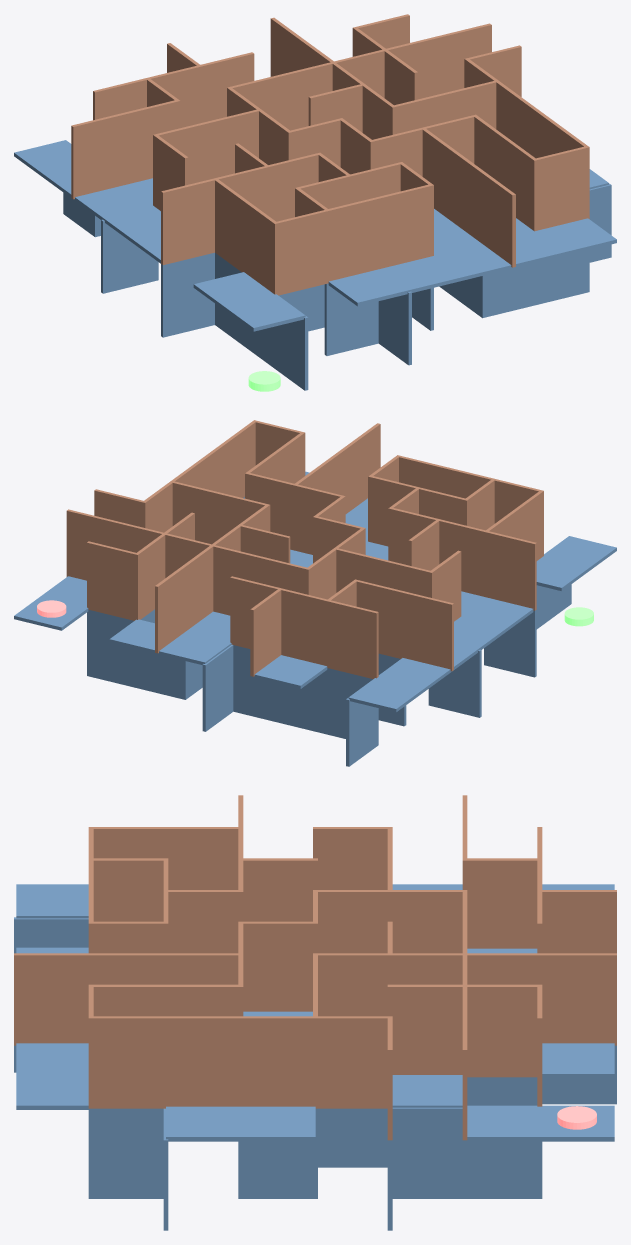
The model's file is Labyrinth_vis.fbx.
3 views of the same model, one above another, from view 1: azimuth 30°, elevation 25°; view 2: azimuth 150°, elevation 25°; view 3: azimuth 270°, elevation 25° (orthographic). The views are drawn at different scales.
Parts seen in each view (by area): view 1: START; view 2: START; view 3: START.
Boxes of the visible parts, box(x1,y1,x2,y2) form: START: box(14, 14, 616, 391); START: box(14, 420, 616, 766); START: box(14, 795, 616, 1230).
Size of the model in its own units: 1829 by 605 by 1829.
